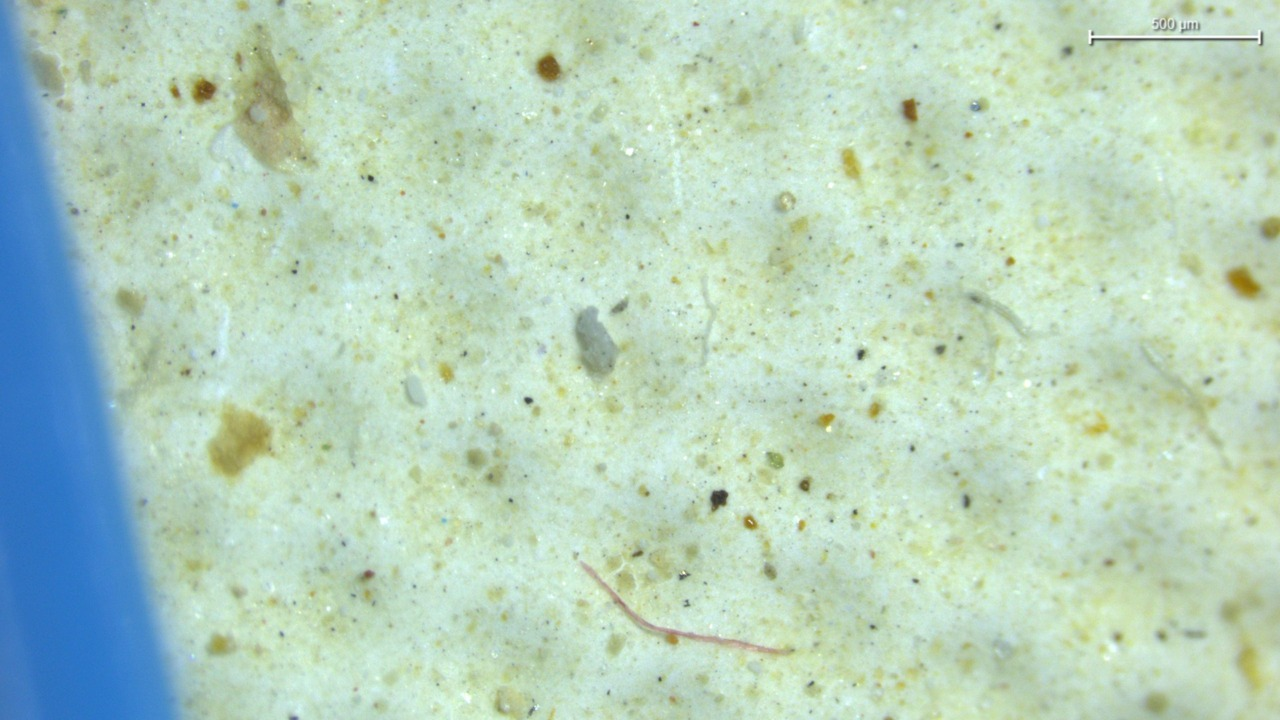microplastic_fragment: (575, 307, 618, 378)
